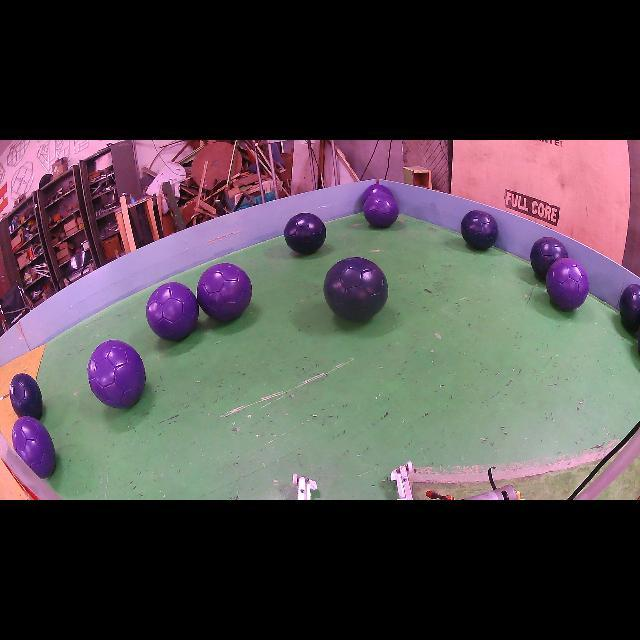B: (324, 258, 389, 320), (284, 212, 326, 254), (530, 238, 568, 279), (461, 210, 499, 250), (10, 374, 42, 419), (619, 284, 640, 331)
P: (88, 340, 145, 408), (196, 262, 252, 321), (146, 282, 199, 340), (12, 416, 56, 479), (546, 258, 589, 310), (364, 192, 399, 228), (362, 184, 392, 204)
